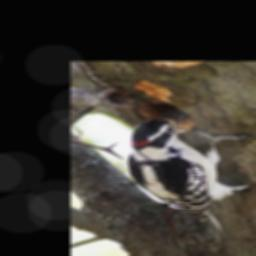Woodpecker: (128, 114, 250, 228)
